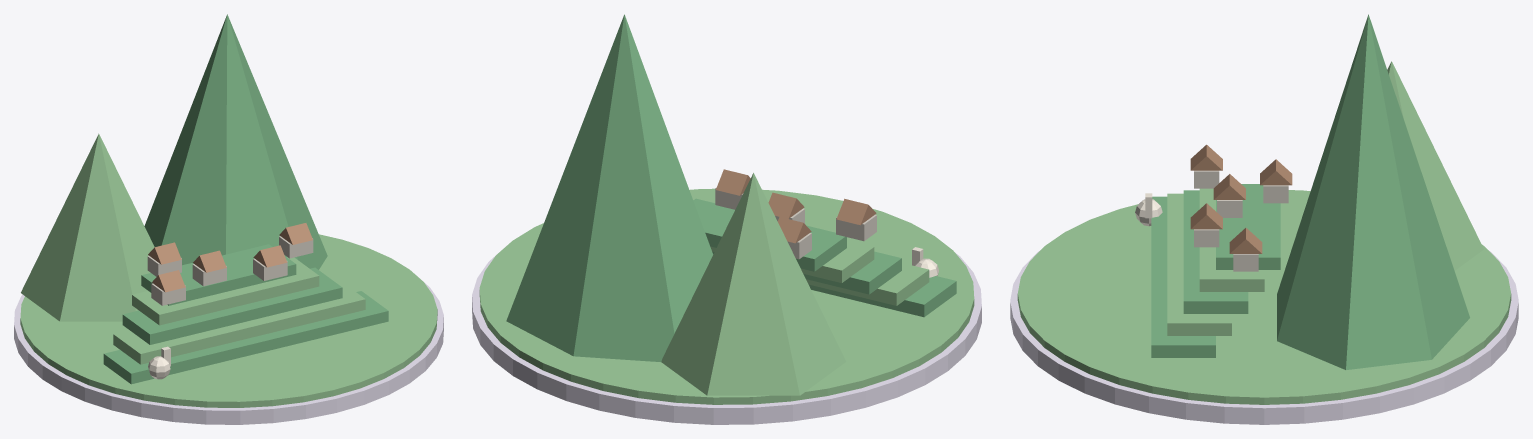
Rendered from machupicchu.glb.
The picture shows the model from 3 angles, left to right: view 1: azimuth 30°, elevation 25°; view 2: azimuth 150°, elevation 25°; view 3: azimuth 270°, elevation 25°; orthographic projection. The views are drawn at different scales.
Parts seen in each view (by area): view 1: machupicchu; view 2: machupicchu; view 3: machupicchu.
Boxes of the visible parts, x1,y1,x2,y2 form: machupicchu: (14, 14, 443, 424); machupicchu: (472, 14, 981, 424); machupicchu: (1010, 14, 1518, 424).
Size of the model in its own units: 2.2 by 1.57 by 2.2.
1 material, 1 textured.
